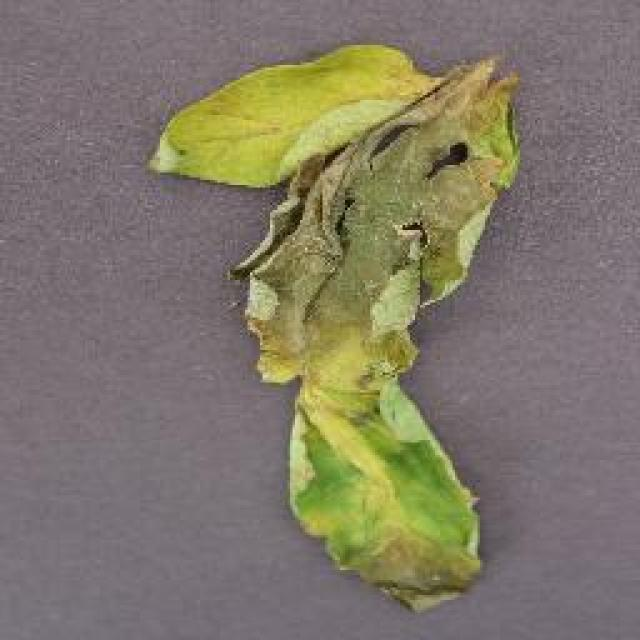Tomato___Late_blight: (143, 43, 521, 616)
